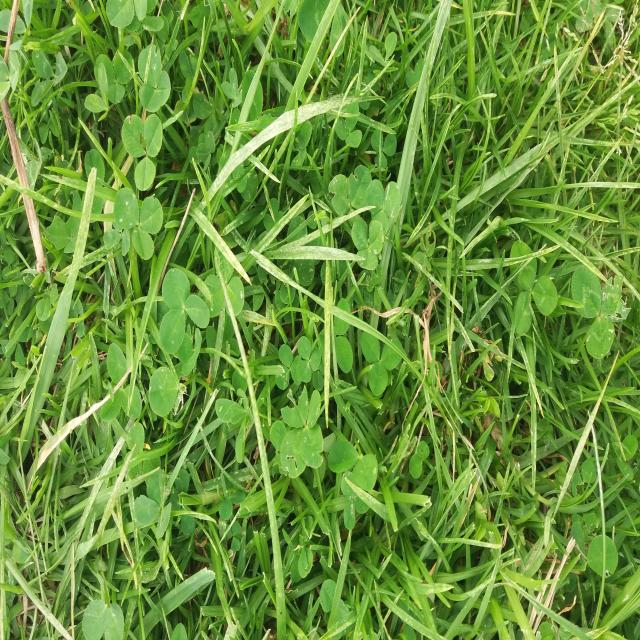Four Leaf Clover: (280, 385, 323, 478)
